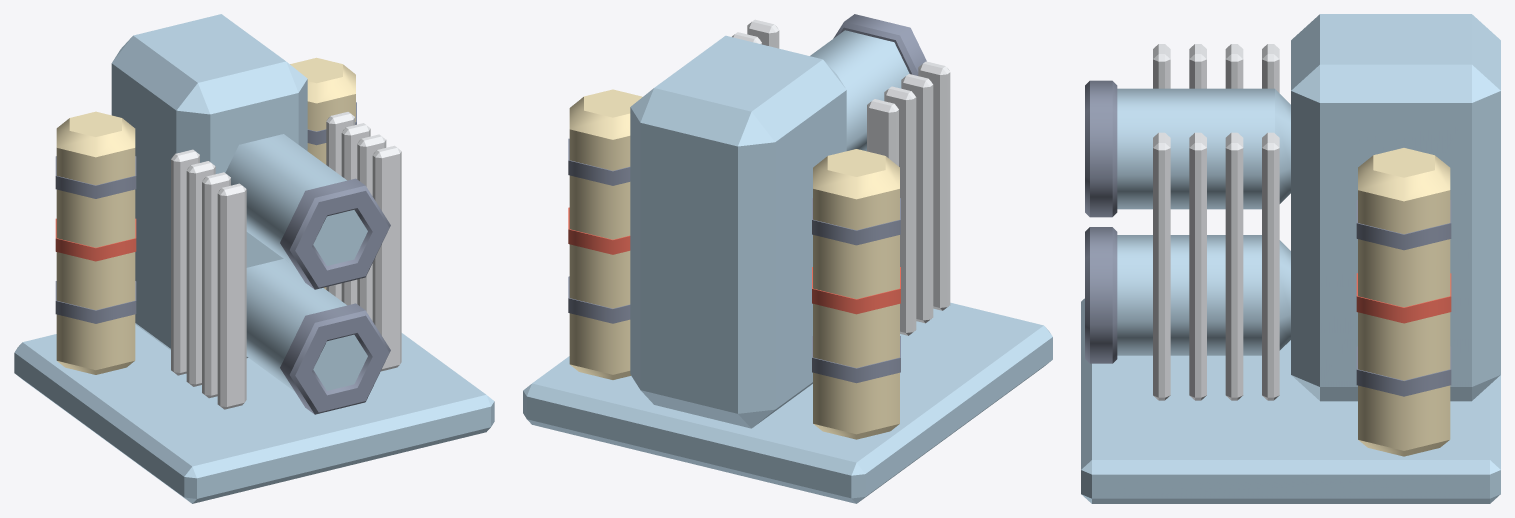
Rendered from R4X_DoubleShotOverdrive_LOD1.glb.
The picture shows the model from 3 angles, left to right: view 1: azimuth 30°, elevation 25°; view 2: azimuth 150°, elevation 25°; view 3: azimuth 270°, elevation 25°; orthographic projection. The views are drawn at different scales.
Parts seen in each view (by area): view 1: R4X_DoubleShotOverdrive_LOD1; view 2: R4X_DoubleShotOverdrive_LOD1; view 3: R4X_DoubleShotOverdrive_LOD1.
Boxes of the visible parts, box(x1,y1,x2,y2) form: R4X_DoubleShotOverdrive_LOD1: box(14, 14, 494, 503); R4X_DoubleShotOverdrive_LOD1: box(523, 14, 1052, 503); R4X_DoubleShotOverdrive_LOD1: box(1081, 14, 1500, 503).
Bounding box in the file's own units: 0.52 × 0.52 × 0.52.
